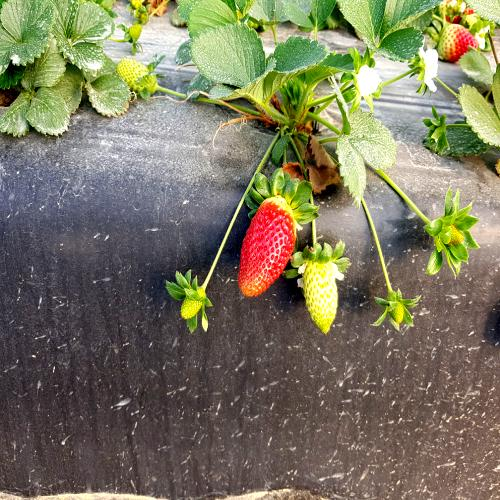ripe: (241, 170, 296, 310)
